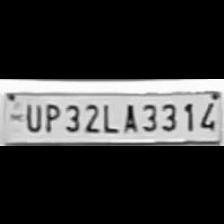1: (179, 99, 195, 131)
2: (80, 98, 100, 132)
3: (138, 98, 158, 132), (157, 99, 177, 131), (61, 100, 80, 132)
4: (196, 96, 218, 130)
A: (118, 98, 138, 132)
L: (100, 98, 118, 132)
P: (41, 100, 61, 132)
U: (22, 99, 42, 131)
